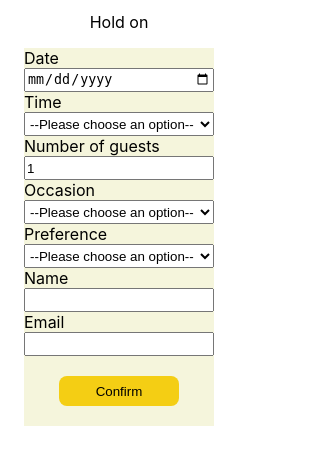
Scenario: Test BookingForm › Testing form validation on invalid inputs › test old date
Type "2022-12-10" into the date field labelled "Date" at coordinates (119, 80), box [24,68,214,92]
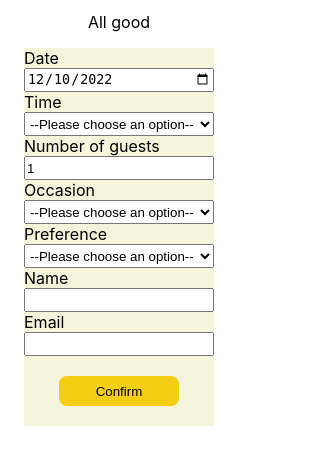
Leave the date field labelled "Date", box [24,68,214,92]
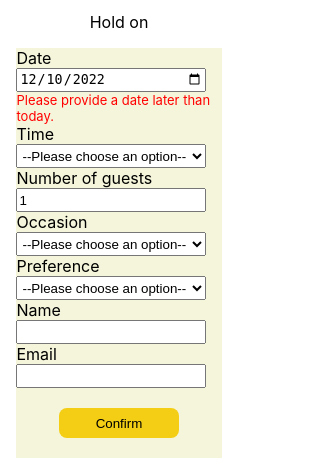
Result: the text with test id "res_date_error" reads "Please provide a date later than today." at [16,92,210,124]
